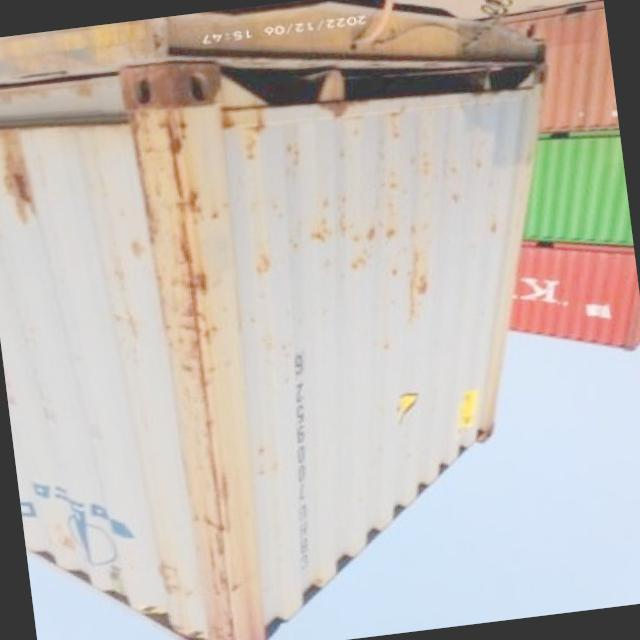rust: (128, 60, 286, 640), (1, 148, 41, 234)
